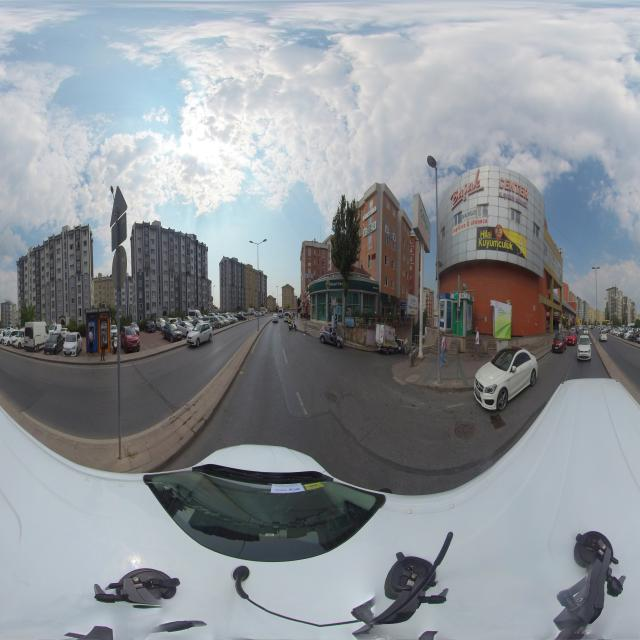SignStore: (323, 280, 343, 290)
